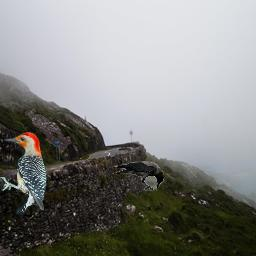Crow: (111, 161, 164, 191)
Woodpecker: (0, 132, 49, 215)
